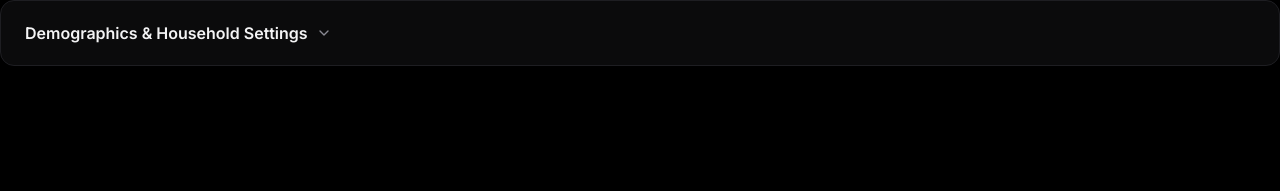
Test: ProfileForm summary › keeps the raw answers out of sight until asked
expect the text "Juan Doyle" is not shown: met
expect the button "Edit" is not shown: met
Click the button "Demographics & Household Settings".
click(178, 33)  # box [25,21,332,45]
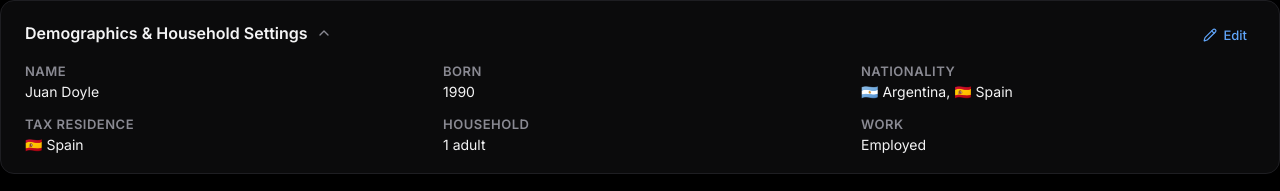
expect the button "Edit" is shown: met, box [1195,21,1255,49]
expect the button "Demographics & Household Settings" is expanded: met, box [25,21,332,45]
expect the text "Juan Doyle" is shown: met, box [25,83,99,100]
